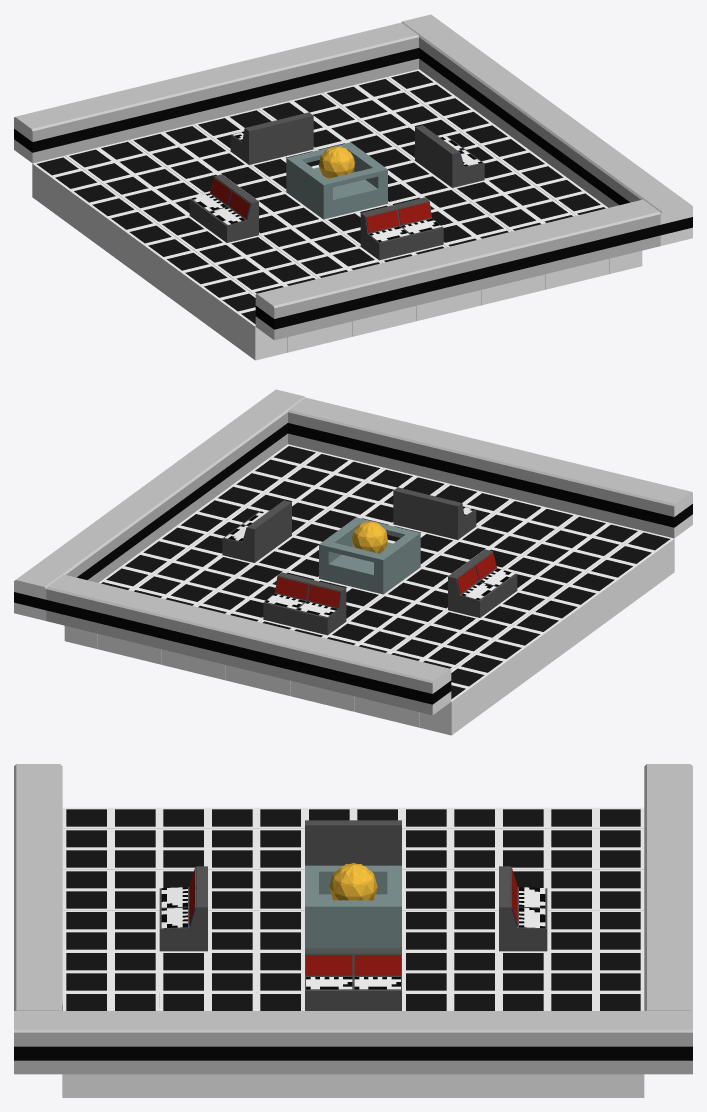
Rendered from coreMedium.fbx.
3 views of the same model, one above another, from view 1: azimuth 30°, elevation 25°; view 2: azimuth 150°, elevation 25°; view 3: azimuth 270°, elevation 25° (orthographic). The views are drawn at different scales.
Visible parts, largest first — view 1: Cube.007, Cube.162, Cube.014, Cube.011, Cube.188, Cube.190, Cube.164, Cube.163, Cube.004, Cube.170, Cube.003, Cube.005 (+124 smaller); view 2: Cube.007, Cube.014, Cube.162, Cube.164, Cube.169, Cube.189, Cube.011, Cube.167, Cube.004, Cube.006, Cube.166, Cube.172 (+124 smaller); view 3: Cube.007, Cube.174, Cube.177, Cube.178, Cube.181, Cube.182, Cube.185, Cube.186, Cube.175, Cube.176, Cube.179, Cube.180 (+143 smaller).
Part boxes in pixels (bbox=[...]): Cube.007: bbox=[286, 142, 387, 219]; Cube.162: bbox=[255, 286, 306, 340]; Cube.014: bbox=[14, 109, 64, 163]; Cube.011: bbox=[360, 205, 411, 260]; Cube.188: bbox=[208, 188, 258, 242]; Cube.190: bbox=[433, 139, 484, 187]; Cube.164: bbox=[230, 120, 281, 164]; Cube.163: bbox=[393, 197, 443, 252]; Cube.004: bbox=[337, 30, 386, 84]; Cube.170: bbox=[547, 215, 596, 269]; Cube.003: bbox=[208, 62, 257, 116]; Cube.005: bbox=[273, 46, 322, 100]; Cube.007: bbox=[319, 517, 420, 594]; Cube.014: bbox=[400, 661, 451, 715]; Cube.162: bbox=[642, 484, 692, 538]; Cube.164: bbox=[295, 580, 346, 635]; Cube.169: bbox=[448, 563, 498, 617]; Cube.189: bbox=[222, 514, 273, 562]; Cube.011: bbox=[425, 495, 476, 539]; Cube.167: bbox=[263, 572, 313, 627]; Cube.004: bbox=[78, 582, 127, 636]; Cube.006: bbox=[110, 590, 159, 644]; Cube.166: bbox=[416, 429, 466, 483]; Cube.172: bbox=[320, 405, 369, 459]; Cube.007: bbox=[305, 863, 401, 948]; Cube.174: bbox=[62, 1011, 110, 1074]; Cube.177: bbox=[159, 1011, 207, 1074]; Cube.178: bbox=[353, 1011, 401, 1074]; Cube.181: bbox=[256, 1011, 304, 1074]; Cube.182: bbox=[547, 1011, 595, 1074]; Cube.185: bbox=[450, 1011, 498, 1074]; Cube.186: bbox=[644, 1011, 692, 1074]; Cube.175: bbox=[111, 1011, 159, 1074]; Cube.176: bbox=[208, 1011, 256, 1074]; Cube.179: bbox=[402, 1011, 450, 1074]; Cube.180: bbox=[305, 1011, 353, 1074].
Size of the model in its own units: 2602 by 499 by 2800.
